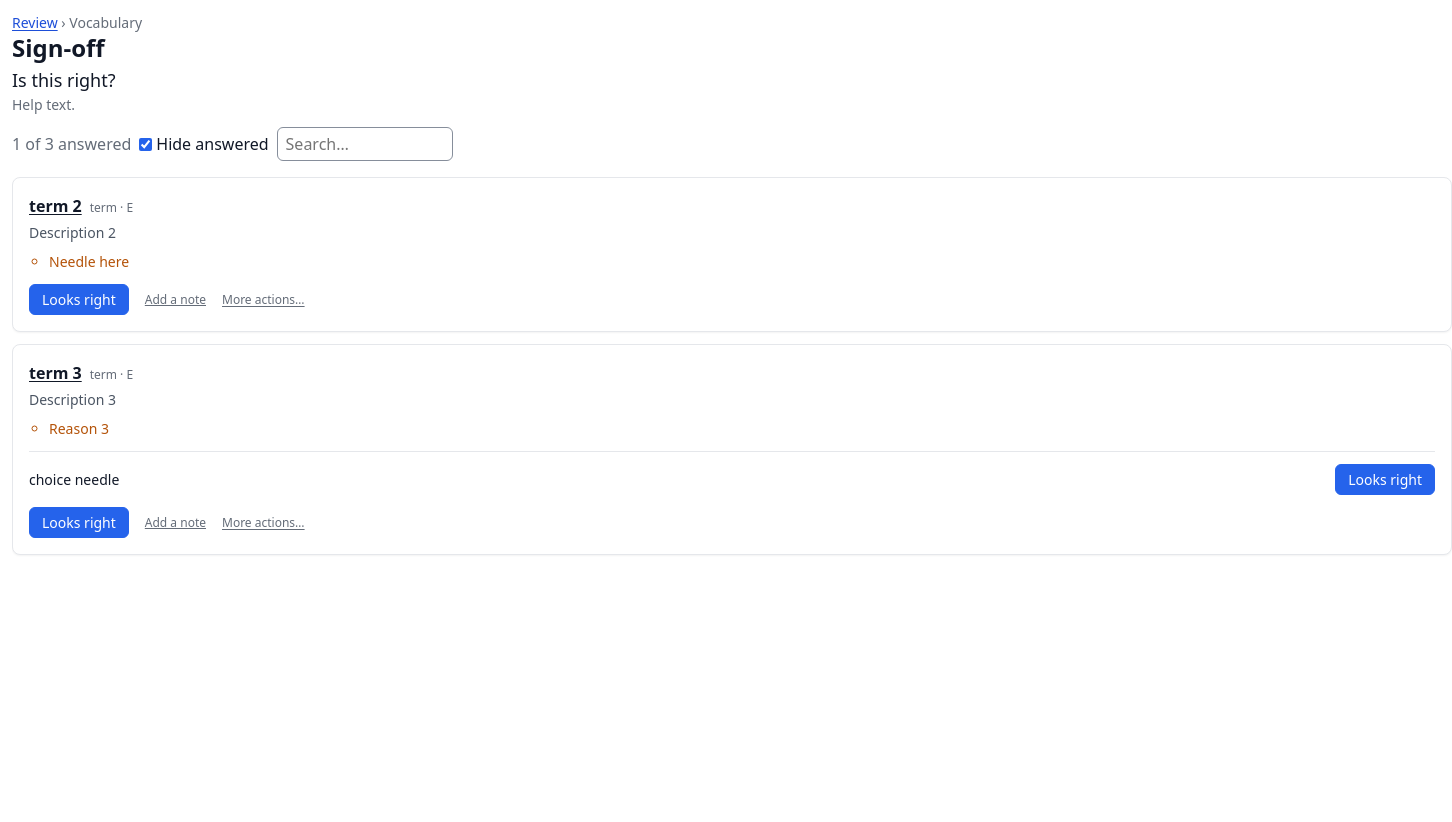
Test case: review type page › search filters title, reasons and choice text; hide-answered hides answered rows
Check: the link "term 2" is shown, box [29,195,82,217]
Check: the text with test id "progress" reads "1 of 3 answered", box [12,132,131,156]
Click the checkbox labelled "Hide answered" at (146, 144), box [139,138,152,150]
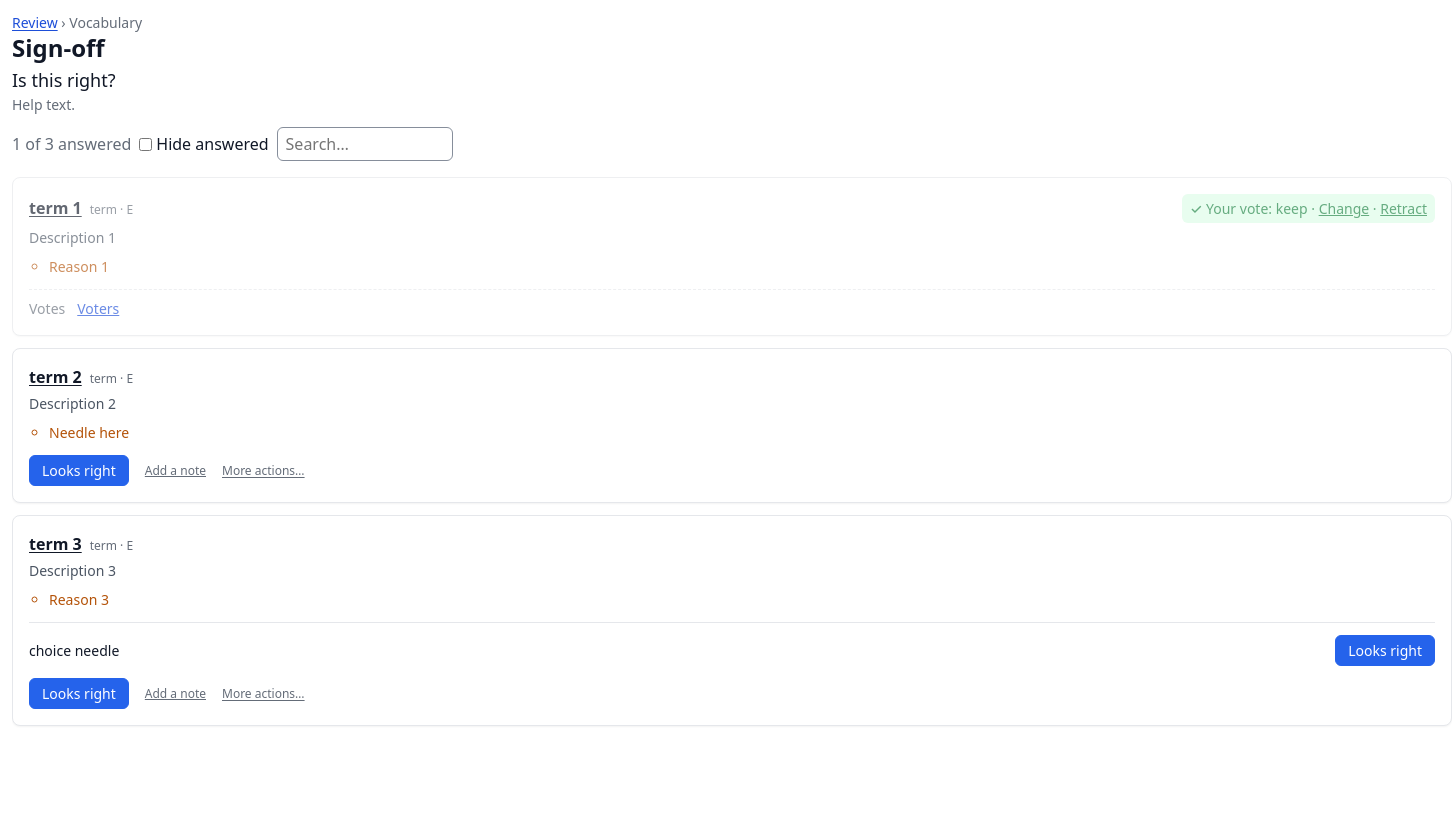
Check: the link "term 1" is shown, box [29,197,82,219]
Type "NEEDLE" into the search field labelled "Search" at (365, 144), box [277,127,453,161]
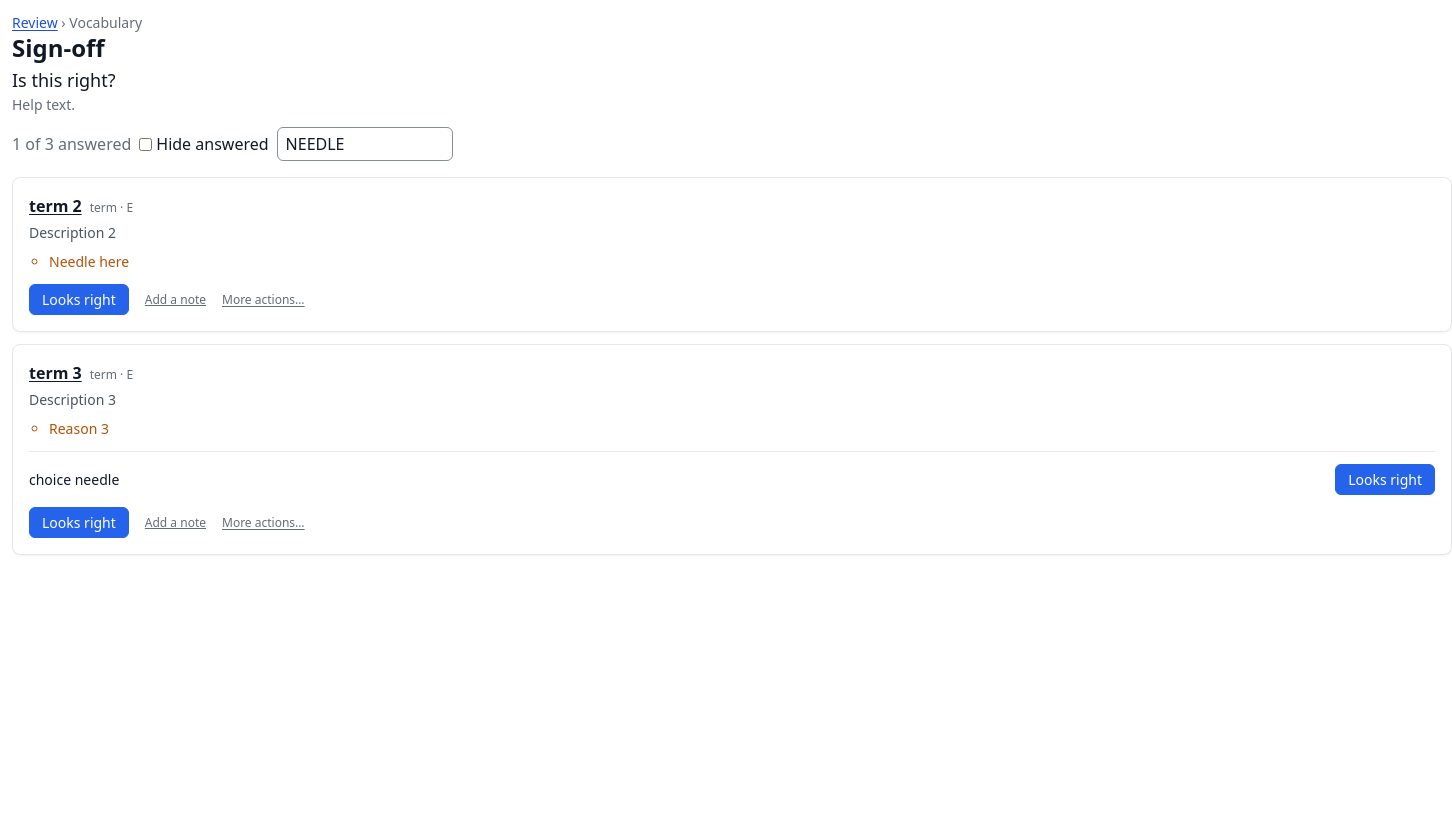
Check: the number of list items with class "review-item" is 2, box [12,177,1451,332]; [12,344,1451,555]
